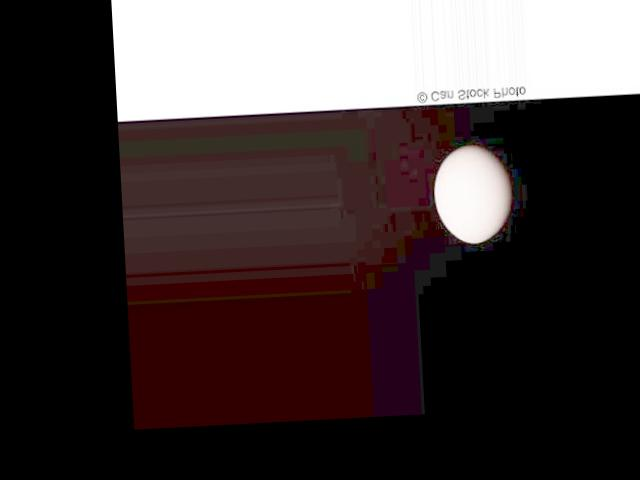egg: (433, 141, 513, 244)
